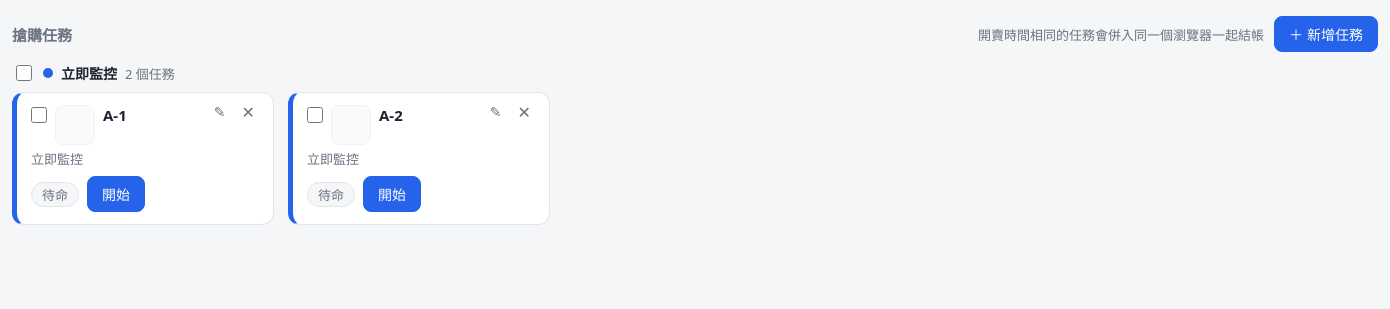
Scenario: ProductGrid › group checkbox selects/deselects every card in that group
Click the checkbox named "選取整組" at {"x": 24, "y": 73}, box top-left (16, 65), bottom-right (32, 81)
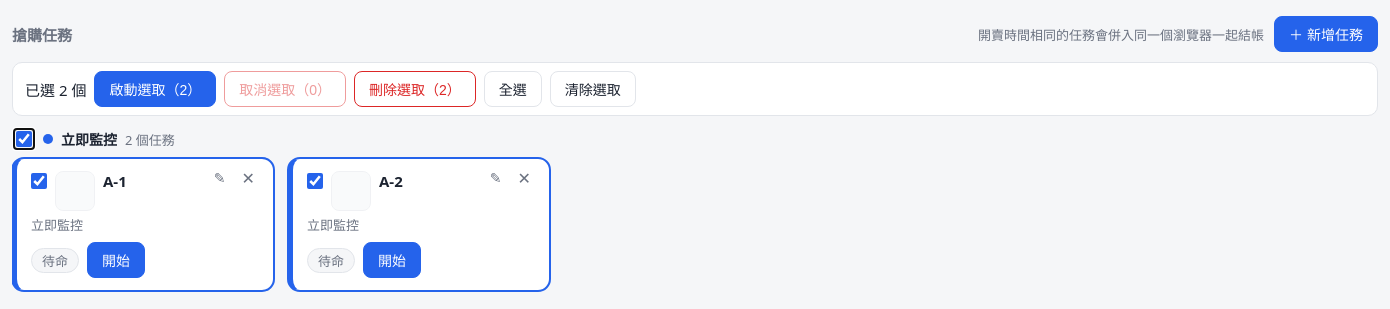
Expected: the text "已選 2 個" is shown, top-left (25, 78), bottom-right (86, 100)
Click the checkbox named "選取整組" at {"x": 24, "y": 139}, box top-left (16, 131), bottom-right (32, 147)
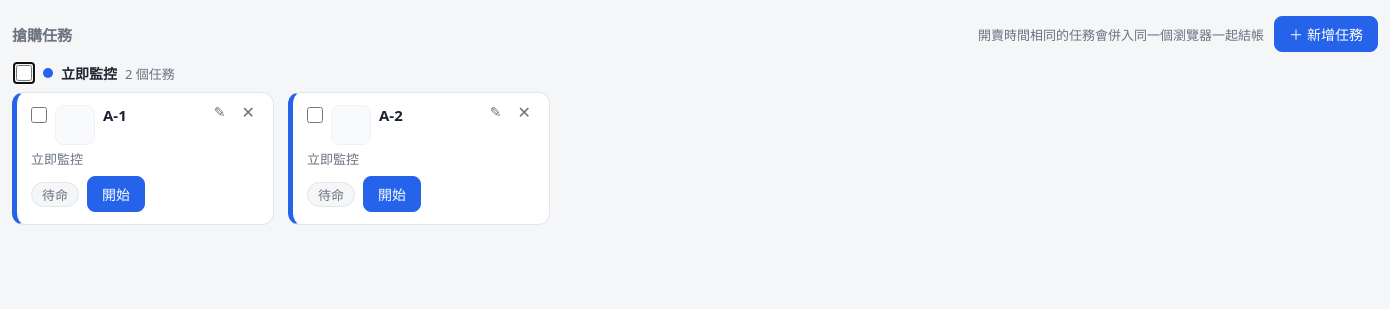
Expected: the text "已選" is gone
